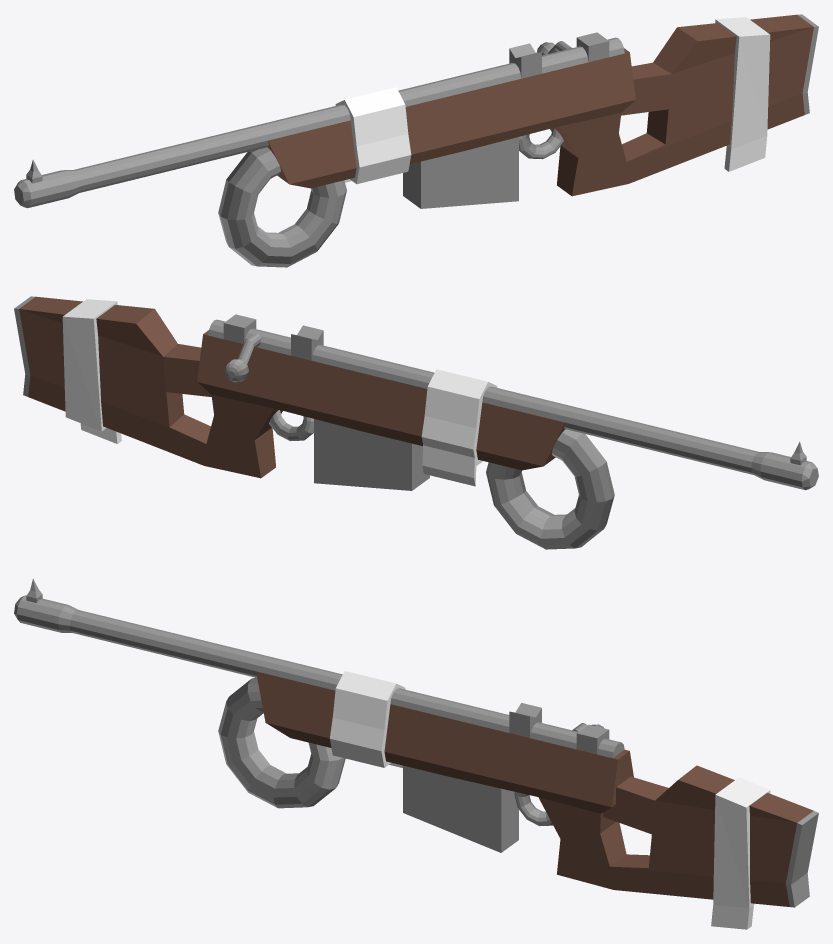
Rendered from Wasteland bolt action rifle.glb.
3 renders of one model, top to bottom at view 1: azimuth 30°, elevation 25°; view 2: azimuth 150°, elevation 25°; view 3: azimuth 330°, elevation 25°, orthographic.
Visible parts, largest first — view 1: Node; view 2: Node; view 3: Node.
Boxes of the visible parts, box(x1,y1,x2,y2) form: Node: box(14, 14, 818, 267); Node: box(14, 296, 818, 549); Node: box(14, 578, 818, 929).
Size of the model in its own units: 1.53 by 0.3213 by 0.1497.
